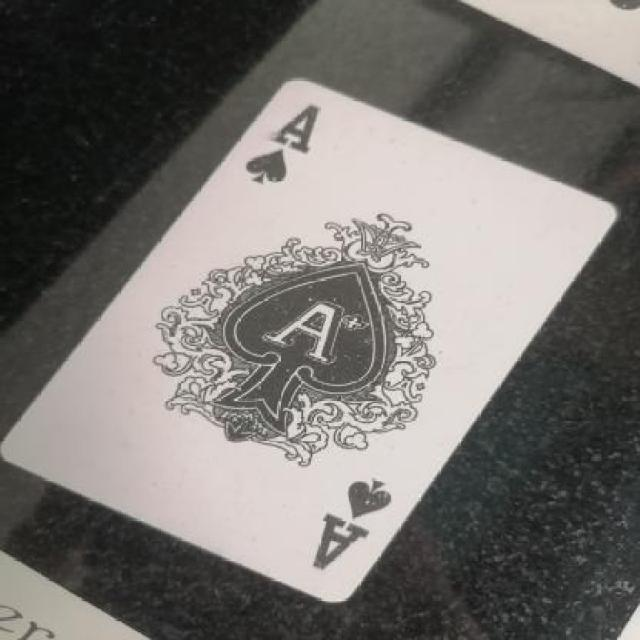AS: (297, 472, 426, 572), (242, 98, 328, 204)
